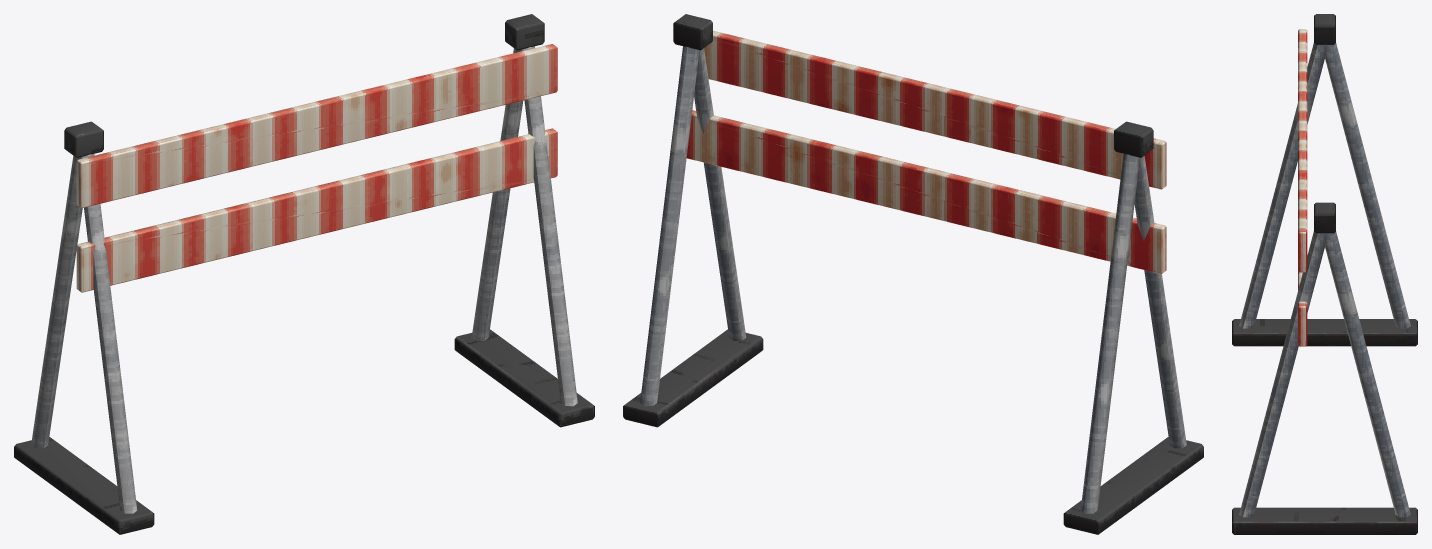
File: barricade.glb
3 views of the same model, side by side, from view 1: azimuth 30°, elevation 25°; view 2: azimuth 150°, elevation 25°; view 3: azimuth 270°, elevation 25° (orthographic). The views are drawn at different scales.
Parts seen in each view (by area): view 1: mesh; view 2: mesh; view 3: mesh.
Boxes of the visible parts, left/top/right/bottom form: mesh: left=14, top=14, right=594, bottom=534; mesh: left=623, top=14, right=1203, bottom=534; mesh: left=1232, top=14, right=1417, bottom=534.
Size of the model in its own units: 1.3 by 0.955 by 0.5001.
Materials: 1 (1 with a texture image).
